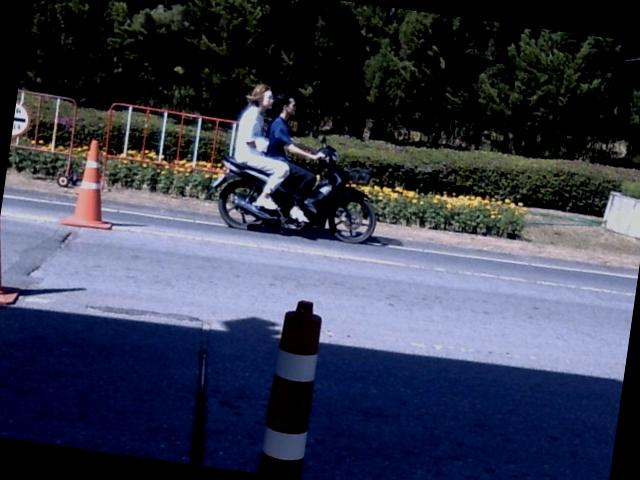motor: (210, 147, 376, 243)
no-helmet: (274, 90, 300, 120), (246, 83, 272, 111)
person: (235, 83, 289, 209), (266, 91, 317, 222)
